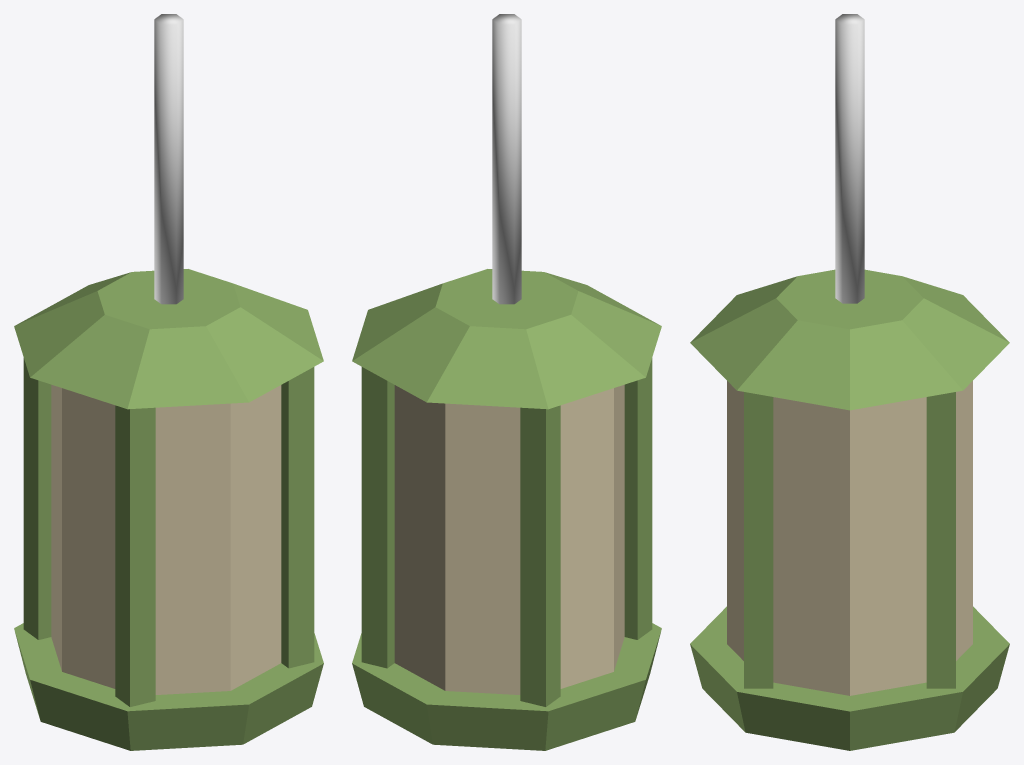
File: cactus_lantern_v0.glb
3 renders of one model, left to right at view 1: azimuth 30°, elevation 25°; view 2: azimuth 150°, elevation 25°; view 3: azimuth 270°, elevation 25°, orthographic.
Parts seen in each view (by area): view 1: cactus_lantern_v0; view 2: cactus_lantern_v0; view 3: cactus_lantern_v0.
Boxes of the visible parts, bbox=[...] form: cactus_lantern_v0: bbox=[14, 14, 323, 750]; cactus_lantern_v0: bbox=[352, 14, 661, 750]; cactus_lantern_v0: bbox=[690, 14, 1009, 750].
Size of the model in its own units: 0.26 by 0.6 by 0.26.
